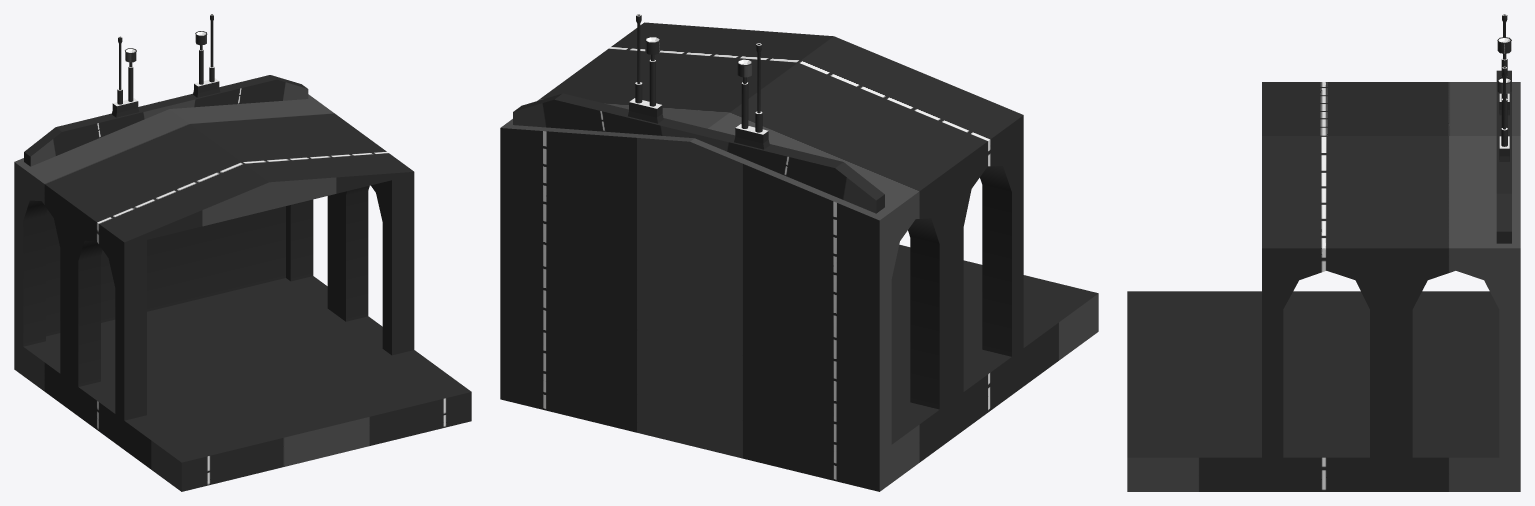
Rendered from roof4.fbx.
3 renders of one model, left to right at view 1: azimuth 30°, elevation 25°; view 2: azimuth 150°, elevation 25°; view 3: azimuth 270°, elevation 25°, orthographic. The views are drawn at different scales.
Parts seen in each view (by area): view 1: Roof4; view 2: Roof4; view 3: Roof4.
Boxes of the visible parts, x1=… form: Roof4: x1=14, y1=14, x2=471, y2=491; Roof4: x1=500, y1=14, x2=1098, y2=491; Roof4: x1=1127, y1=14, x2=1520, y2=491.
Bounding box in the file's own units: 200 × 206 × 200.
